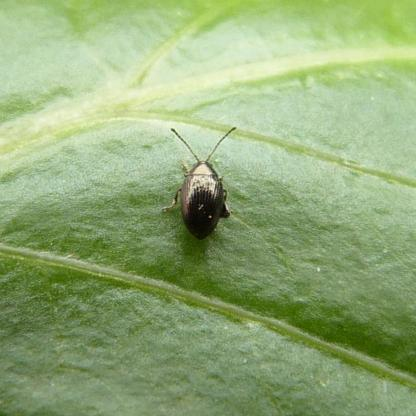beetle: (162, 124, 245, 240)
